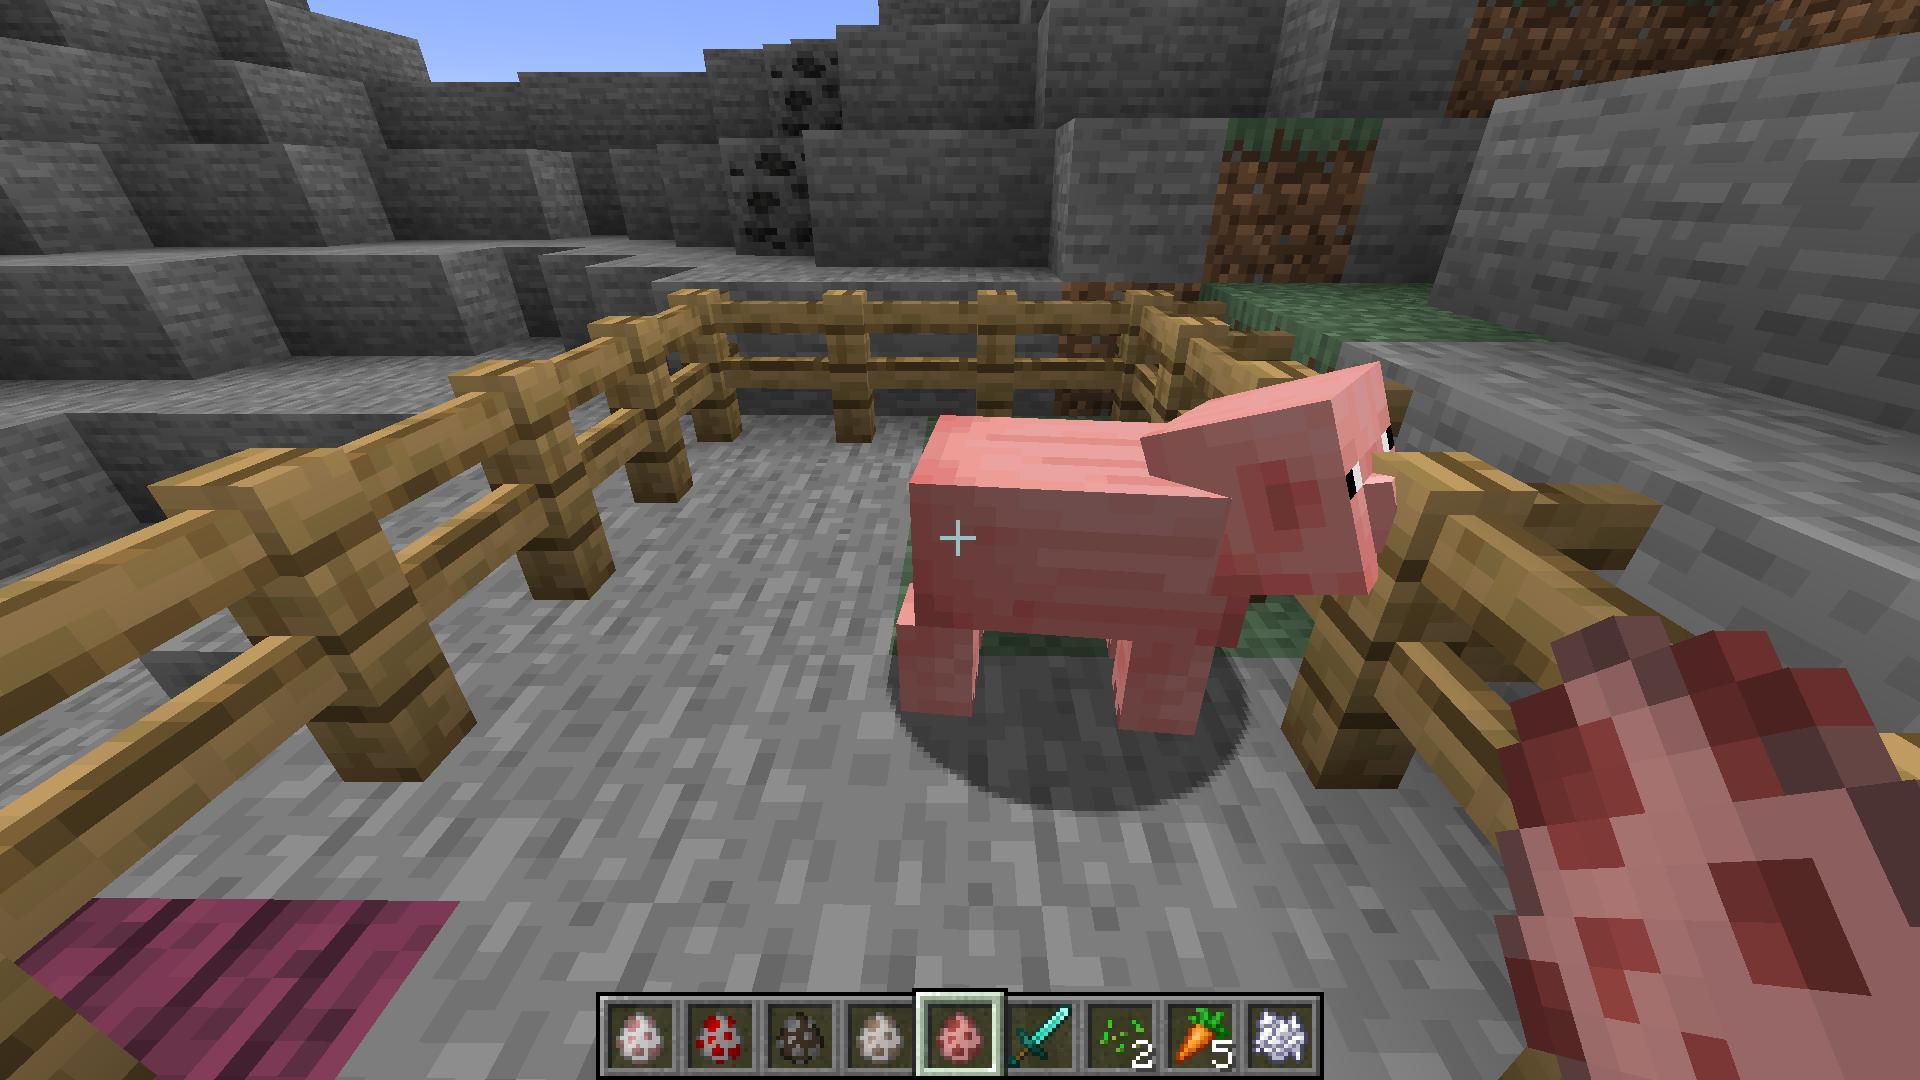pig: (876, 359, 1415, 757)
